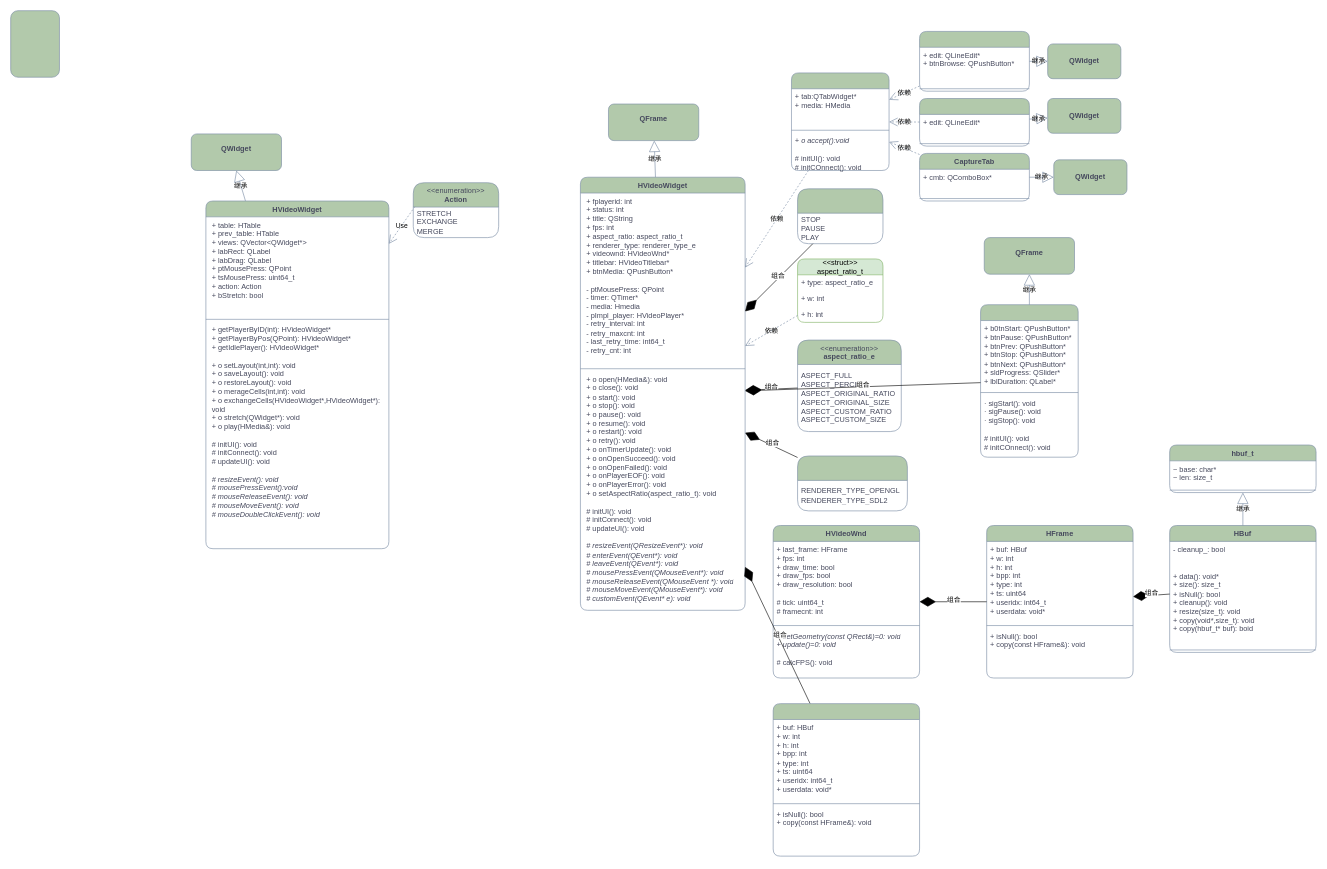
This 1327x869 diagram has some shape labels left out. Each missing label, with the box of its shape:
<<enumeration>> renderer_type_e: (797, 455, 907, 511)
<<enumeration>> Status: (797, 188, 883, 244)
FileTab: (919, 31, 1029, 91)
HOpenMediaDLg: (791, 72, 889, 170)
HVideoPlayer: (773, 703, 920, 856)
HVideoTitlebar: (980, 304, 1078, 457)
NetworkTab: (919, 98, 1029, 146)
限定符提示 - private + public # protected ~ default · signals o slots: (10, 10, 59, 77)
